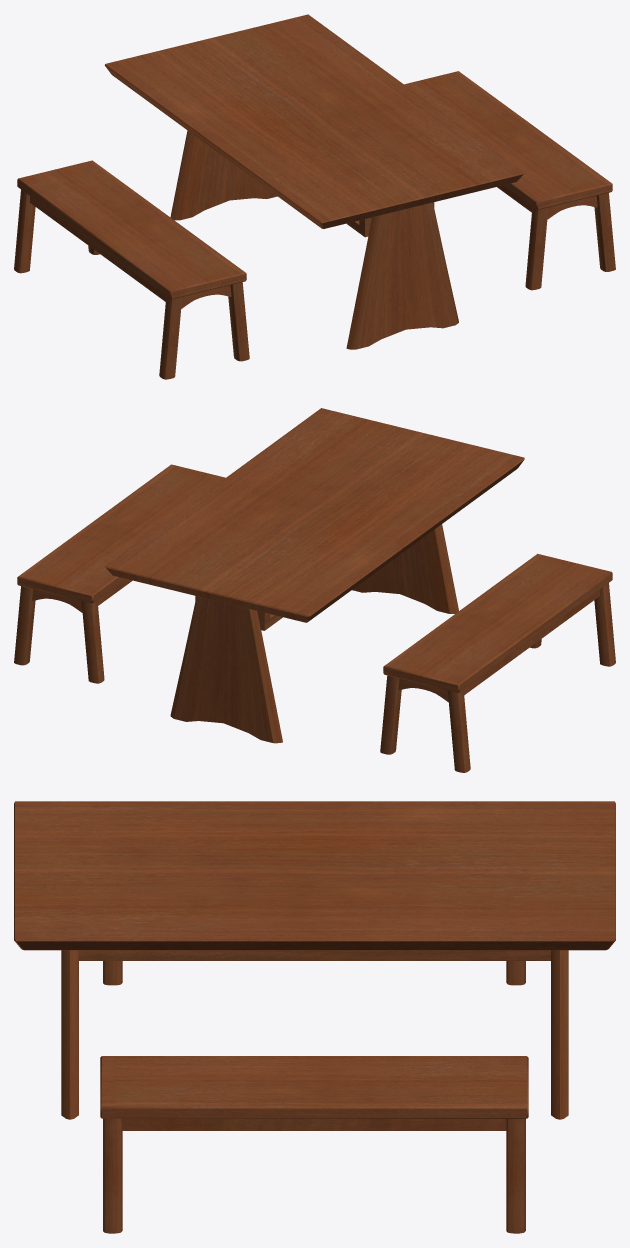
The model's file is dining_table.fbx.
3 views of the same model, one above another, from view 1: azimuth 30°, elevation 25°; view 2: azimuth 150°, elevation 25°; view 3: azimuth 270°, elevation 25° (orthographic). The views are drawn at different scales.
Parts seen in each view (by area): view 1: 立方体.022, 立方体.039, 立方体.044, 立方体.006, 立方体.046, 立方体.013, 立方体.047; view 2: 立方体.022, 立方体.039, 立方体.044, 立方体.006, 立方体.046, 立方体.013, 立方体.047; view 3: 立方体.022, 立方体.006, 立方体.039, 立方体.040, 立方体.016, 立方体.013, 立方体.046.
Boxes of the visible parts, <box> form: 立方体.022: <box>104,14,524,228</box>; 立方体.039: <box>170,130,458,349</box>; 立方体.044: <box>17,160,246,299</box>; 立方体.006: <box>404,71,612,209</box>; 立方体.046: <box>14,189,249,379</box>; 立方体.013: <box>525,193,615,290</box>; 立方体.047: <box>30,196,166,301</box>; 立方体.022: <box>105,408,524,622</box>; 立方体.039: <box>170,524,458,743</box>; 立方体.044: <box>383,553,612,692</box>; 立方体.006: <box>17,464,225,603</box>; 立方体.046: <box>380,583,615,772</box>; 立方体.013: <box>14,586,104,683</box>; 立方体.047: <box>463,589,599,694</box>; 立方体.022: <box>14,801,615,950</box>; 立方体.006: <box>100,1056,528,1118</box>; 立方体.039: <box>61,950,568,1119</box>; 立方体.040: <box>79,950,550,960</box>; 立方体.016: <box>122,1118,506,1130</box>; 立方体.013: <box>103,1118,525,1233</box>; 立方体.046: <box>103,961,525,985</box>.
Size of the model in its own units: 251 by 80.6 by 208.
